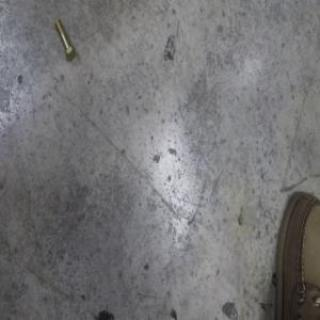Bolttrack_idkeyframe: (52, 18, 74, 62)
